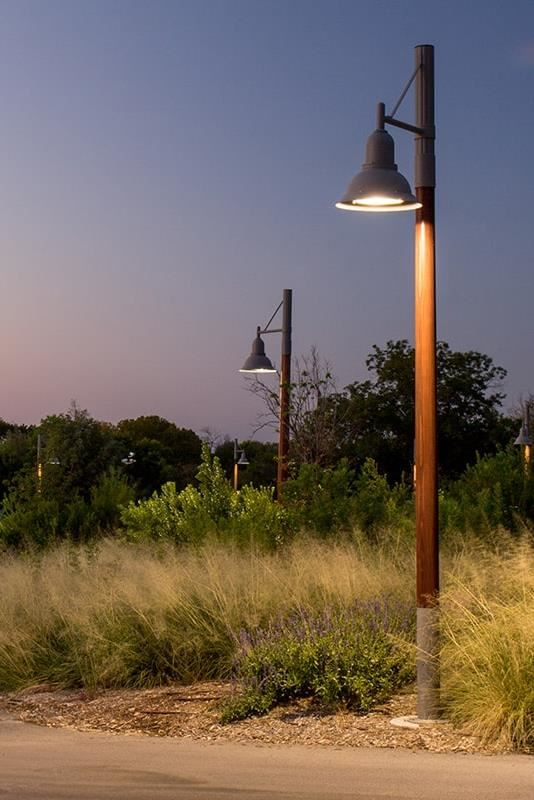light_pole: (397, 34, 454, 742), (244, 279, 304, 498)
